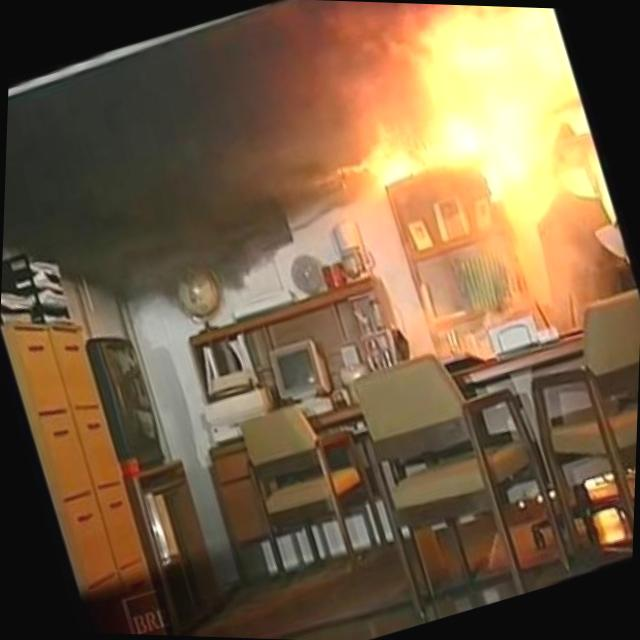fire: (319, 0, 586, 177)
smoke: (0, 0, 358, 325)
